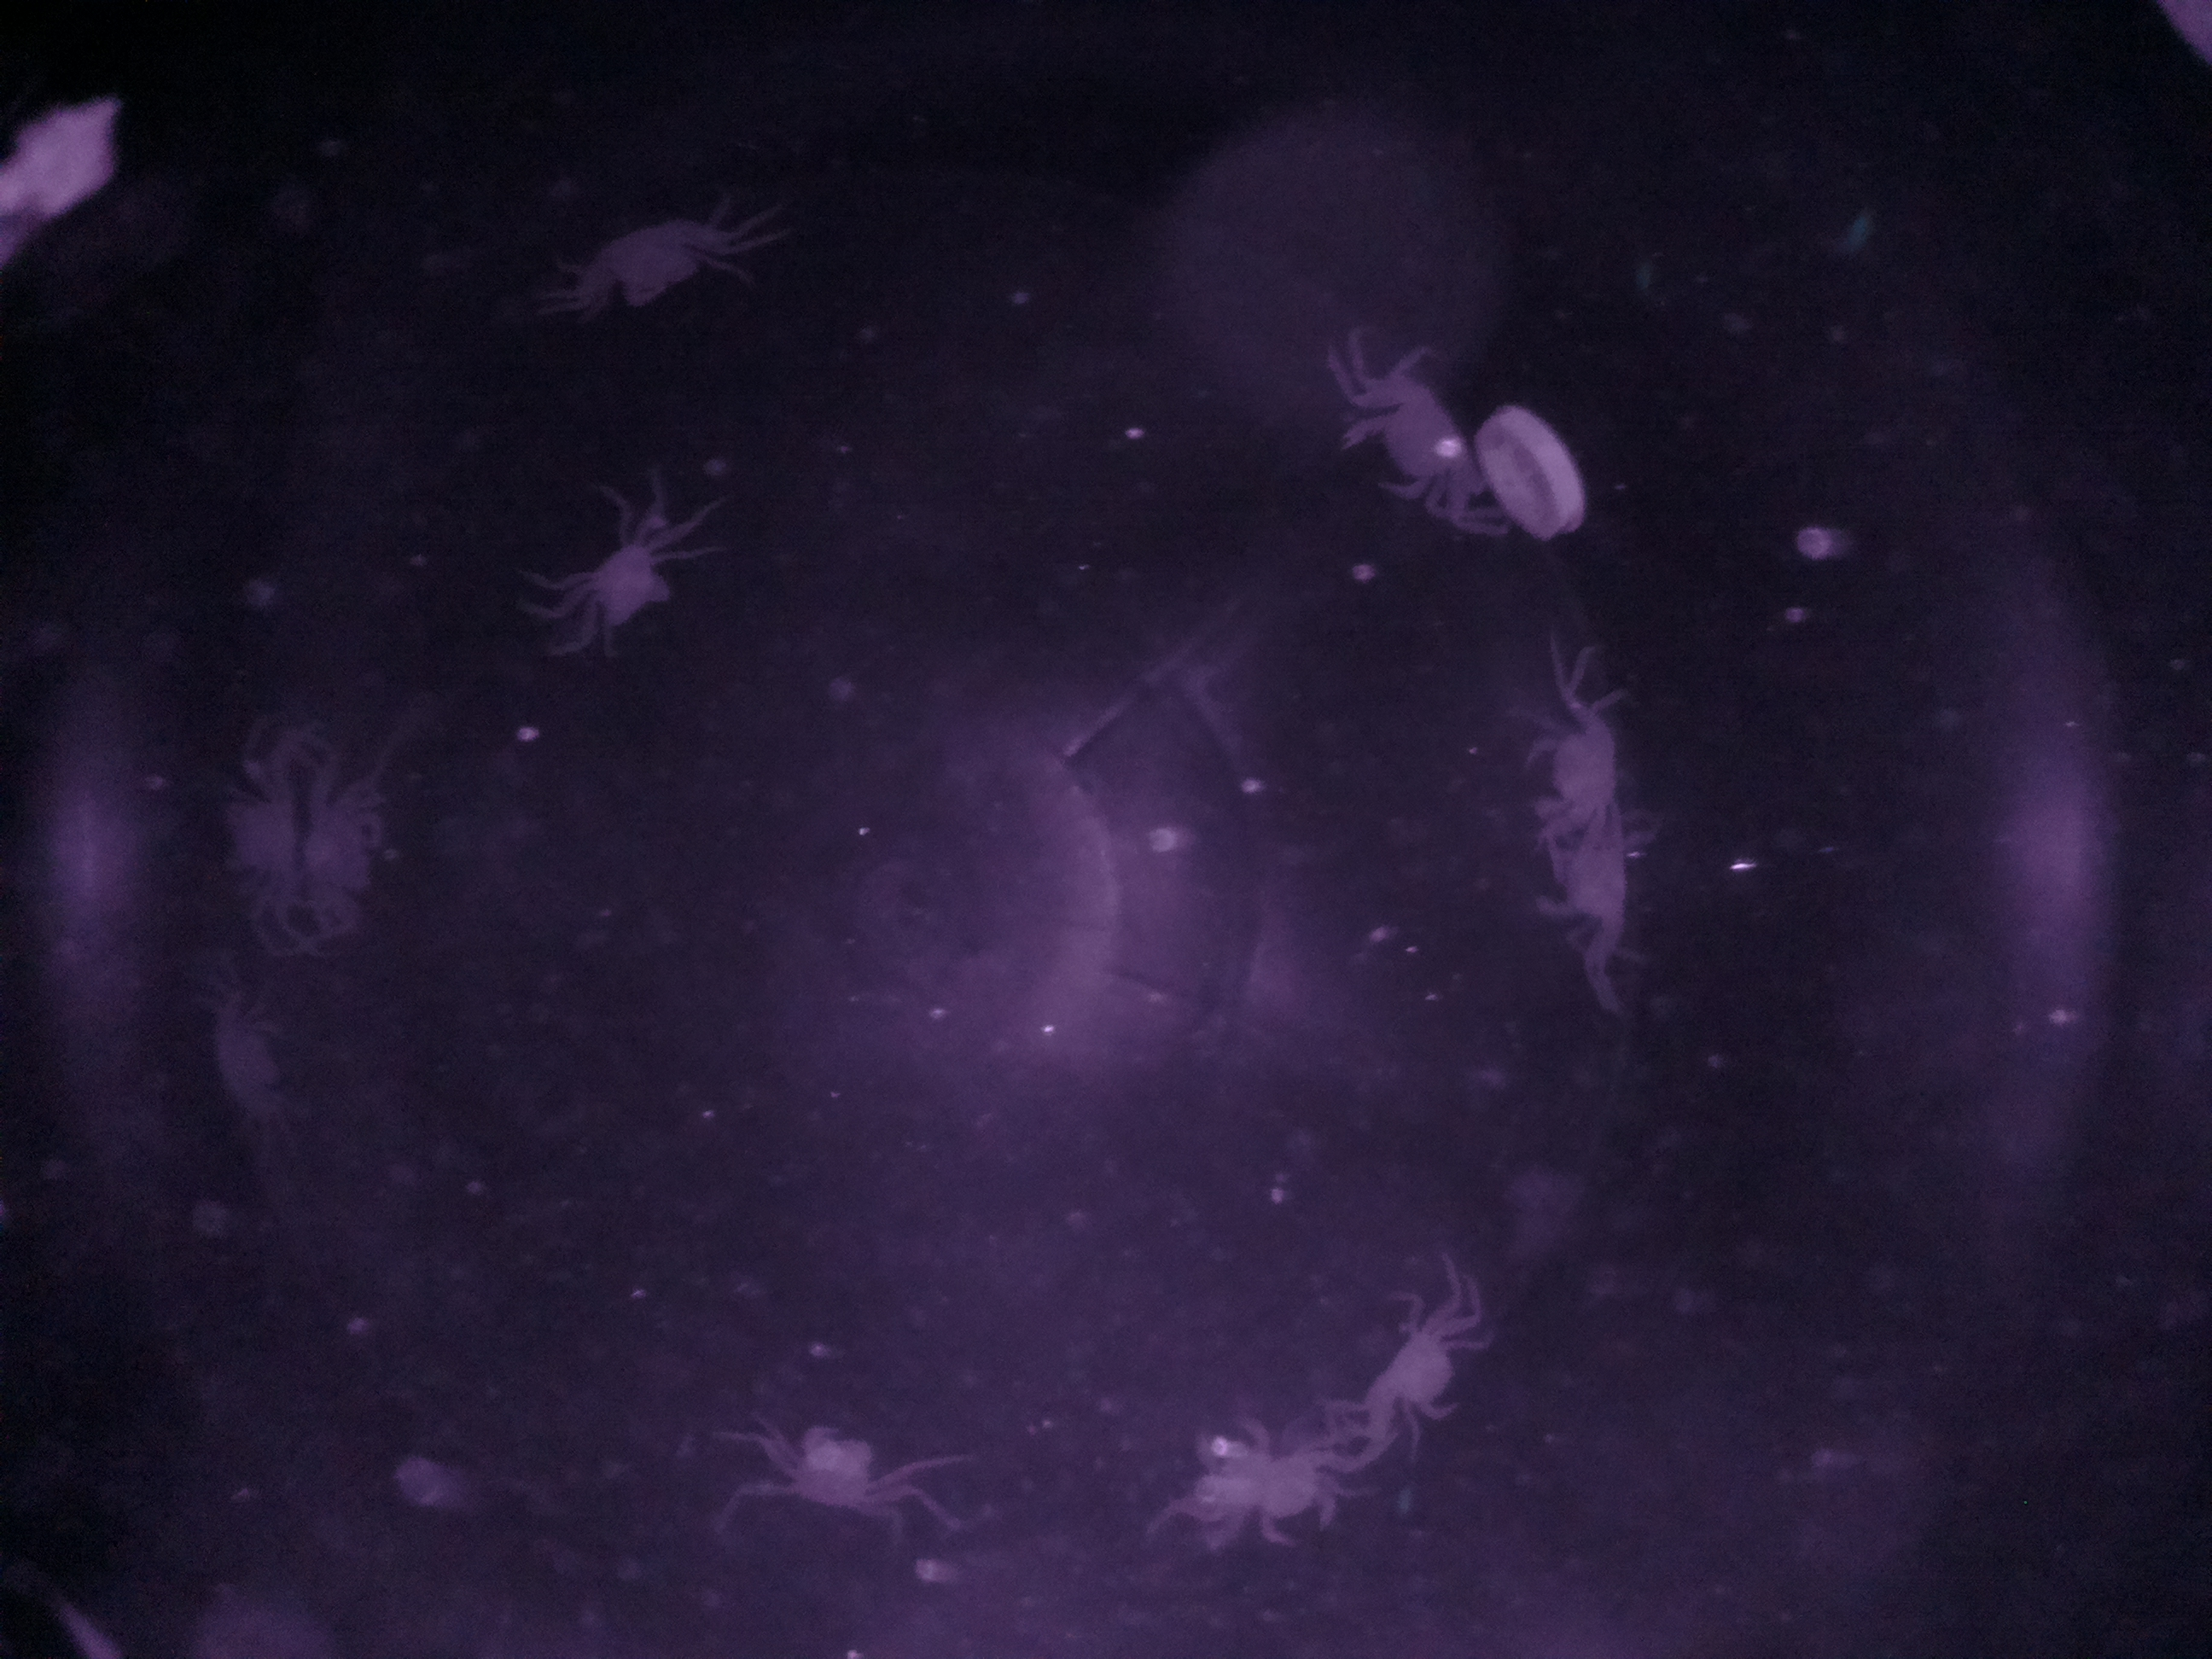Crab: (770, 1375, 960, 1561), (1318, 349, 1507, 532), (1339, 1277, 1507, 1460), (533, 498, 705, 669), (1503, 678, 1663, 849)
